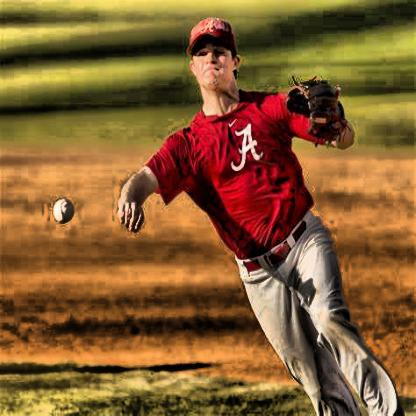baseball: (55, 197, 77, 230)
